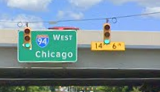1: (93, 41, 98, 50)
4: (97, 41, 103, 50)
6: (110, 42, 117, 50)
overheadsign: (91, 40, 125, 52)
